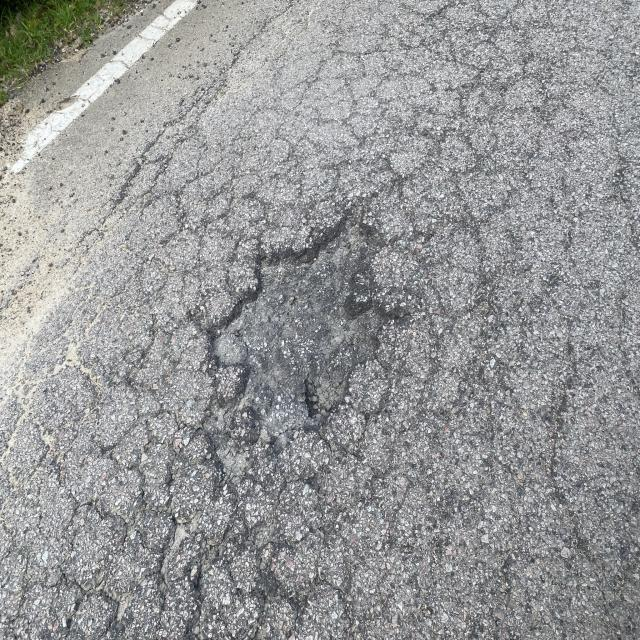pothole: (154, 171, 458, 465)
